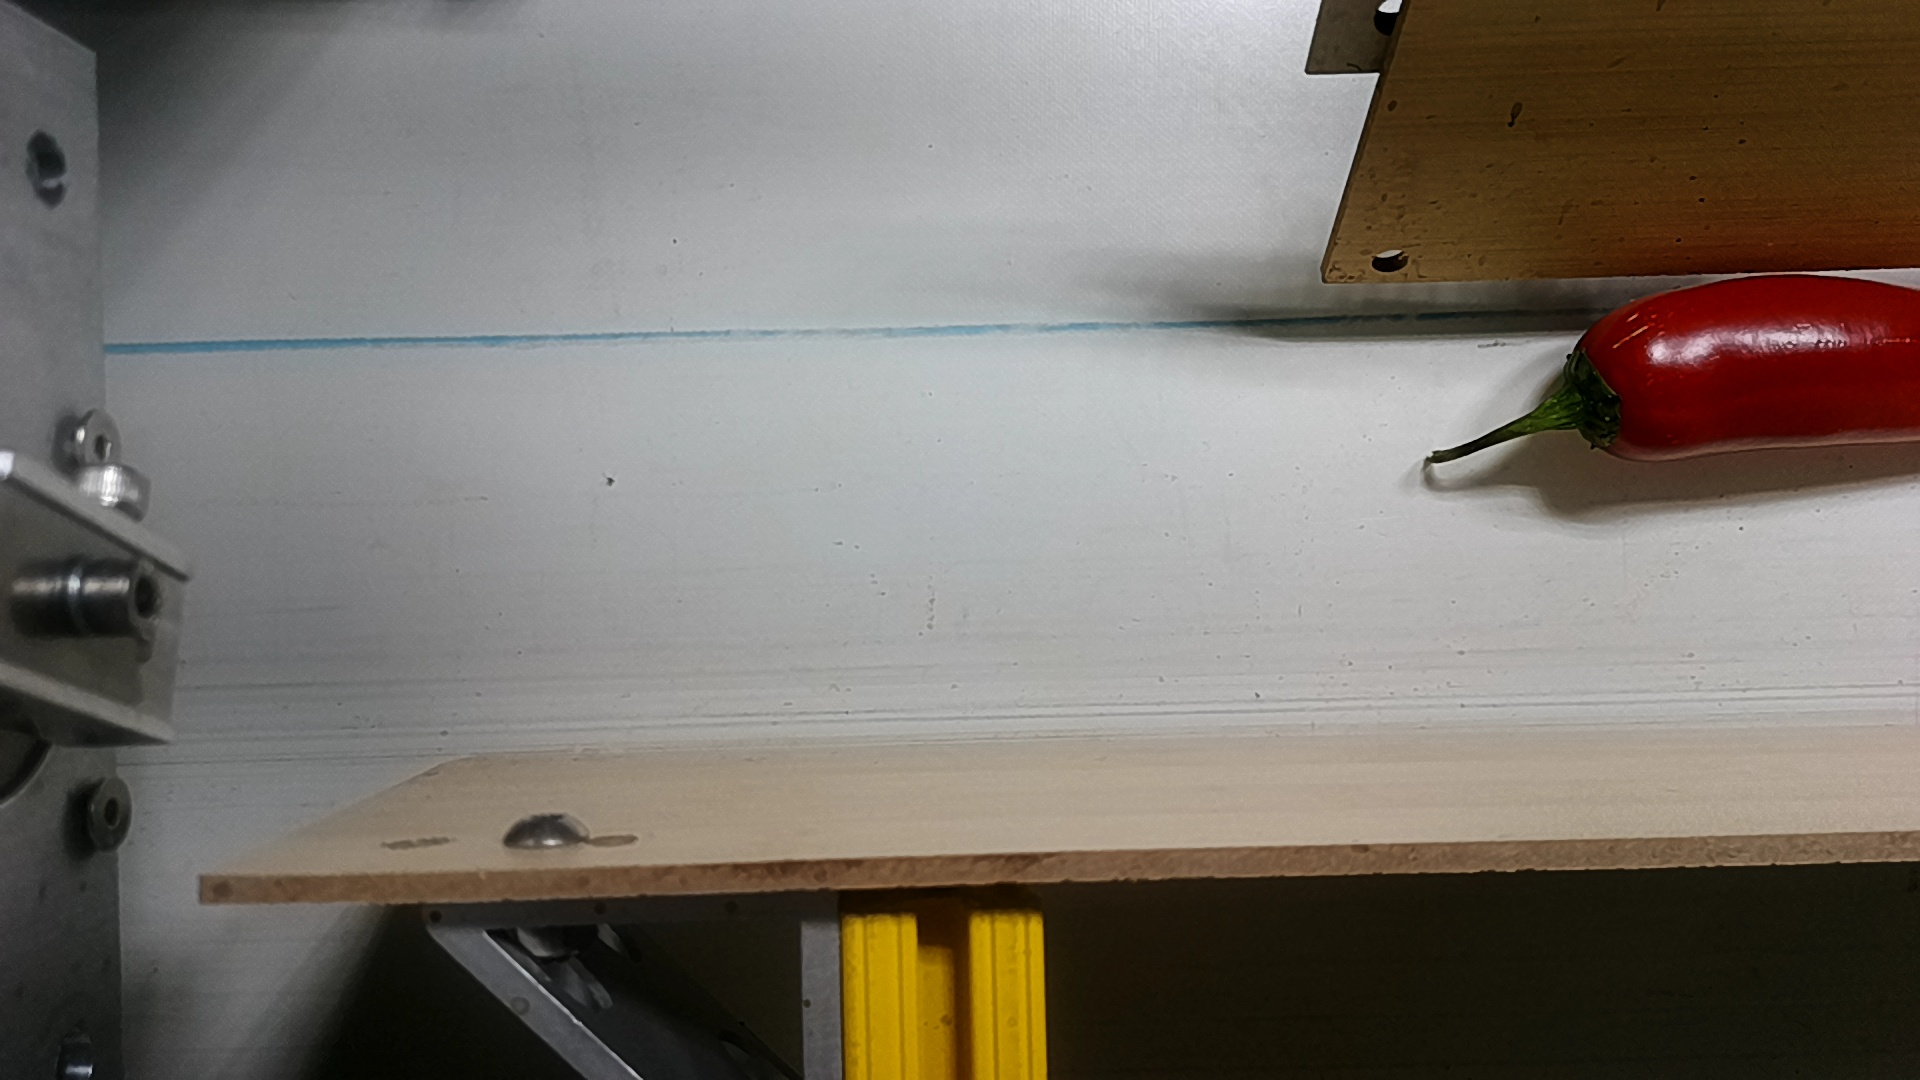Cut Point: (1545, 287, 1677, 465)
